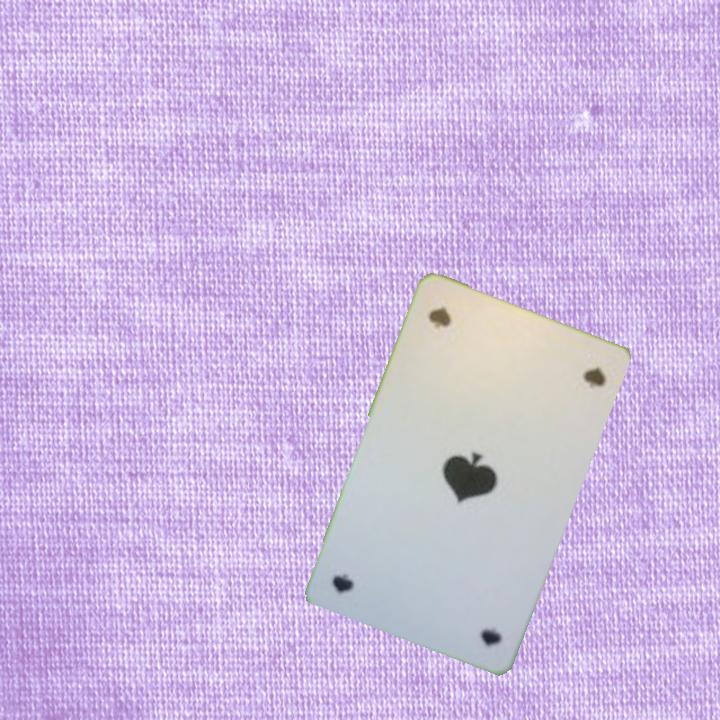s_a.png: (406, 543, 528, 657), (403, 289, 525, 403)
